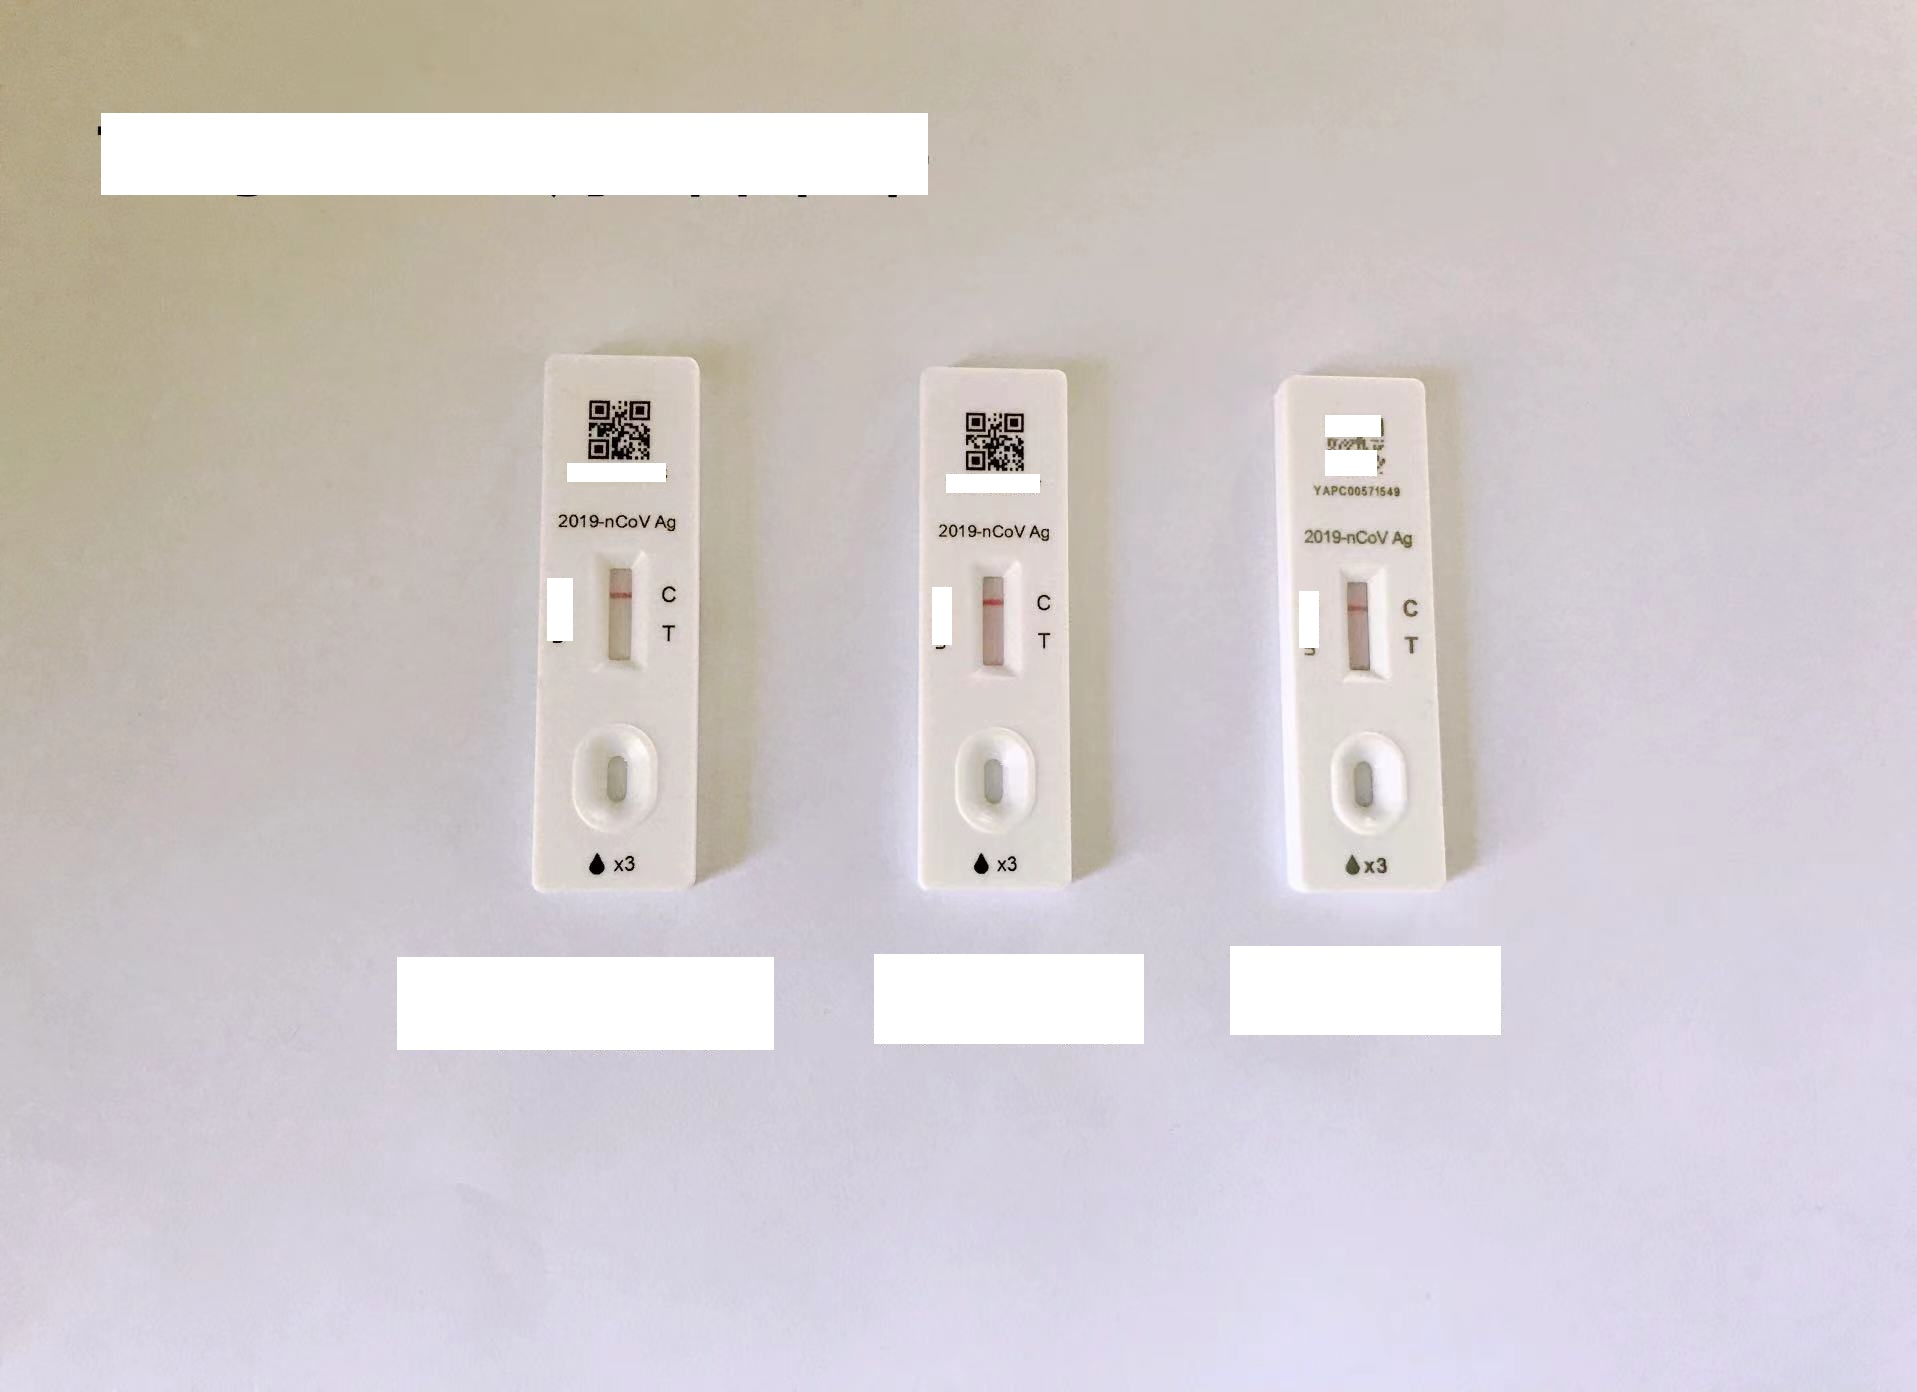negative: (597, 549, 643, 671), (969, 561, 1015, 674), (1340, 561, 1381, 674)
